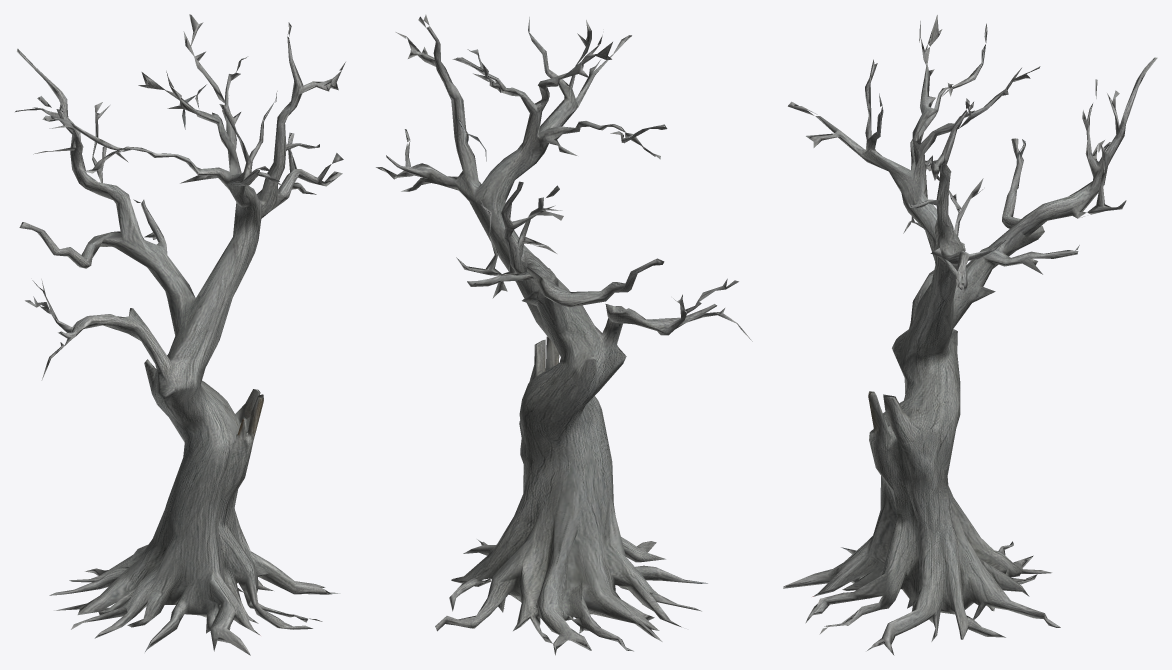
Rendered from prp_tree_dead_a.glb.
The picture shows the model from 3 angles, left to right: view 1: azimuth 30°, elevation 25°; view 2: azimuth 150°, elevation 25°; view 3: azimuth 270°, elevation 25°; orthographic projection. The views are drawn at different scales.
Parts seen in each view (by area): view 1: prp_tree_dead_a; view 2: prp_tree_dead_a; view 3: prp_tree_dead_a.
Boxes of the visible parts, x1,y1,x2,y2 form: prp_tree_dead_a: [15, 14, 345, 655]; prp_tree_dead_a: [376, 14, 752, 655]; prp_tree_dead_a: [783, 15, 1157, 655].
Size of the model in its own units: 5.67 by 9 by 5.37.
Materials: 1 (1 with a texture image).
